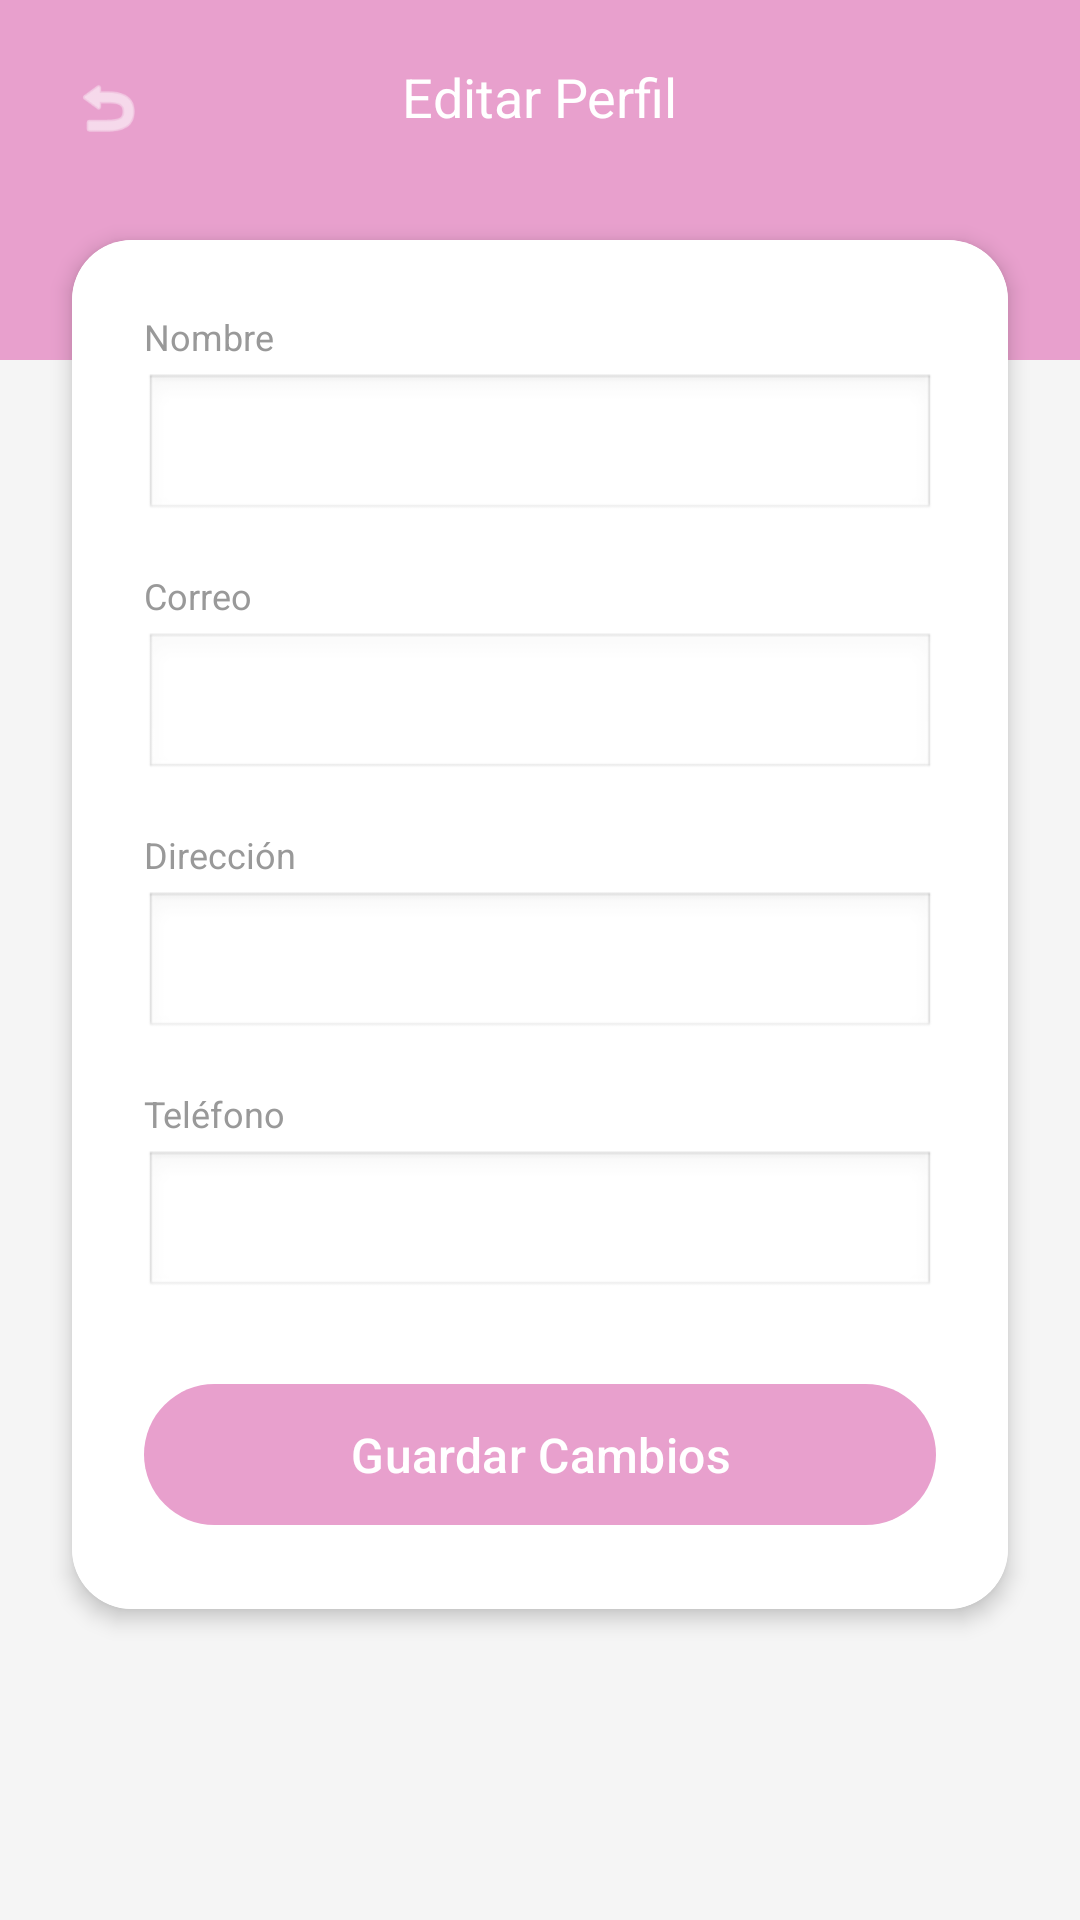

Where to tap for icons on this 1080×1920 app screen, as (x,y):
Back: (108,108)
